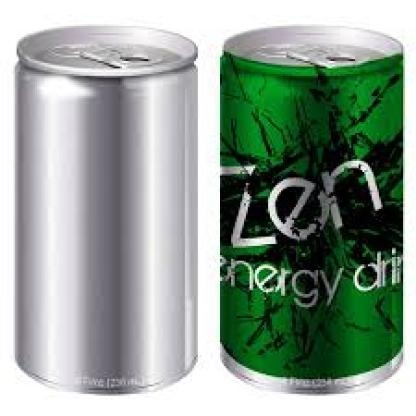trash: (221, 26, 402, 389), (16, 26, 196, 390)
